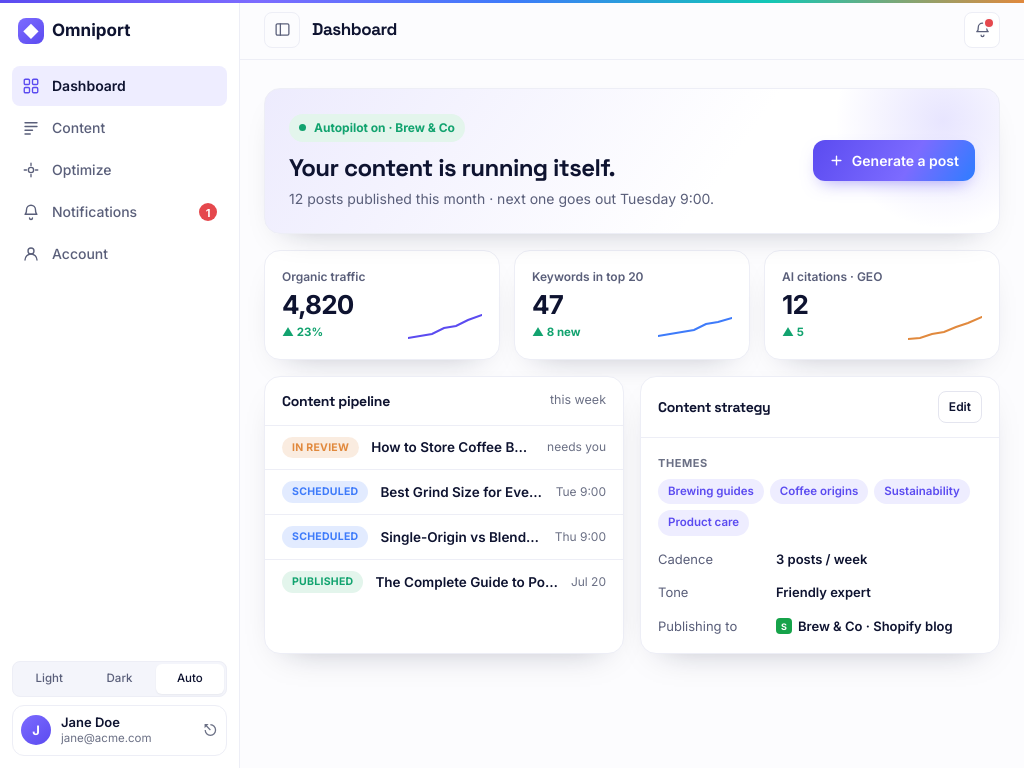
Test: routing › navigates between pages via the sidebar
Check: the text "Dashboard" is shown, box [52,76,126,96]
Click the link "Content" at (64,128), box [22,119,105,137]
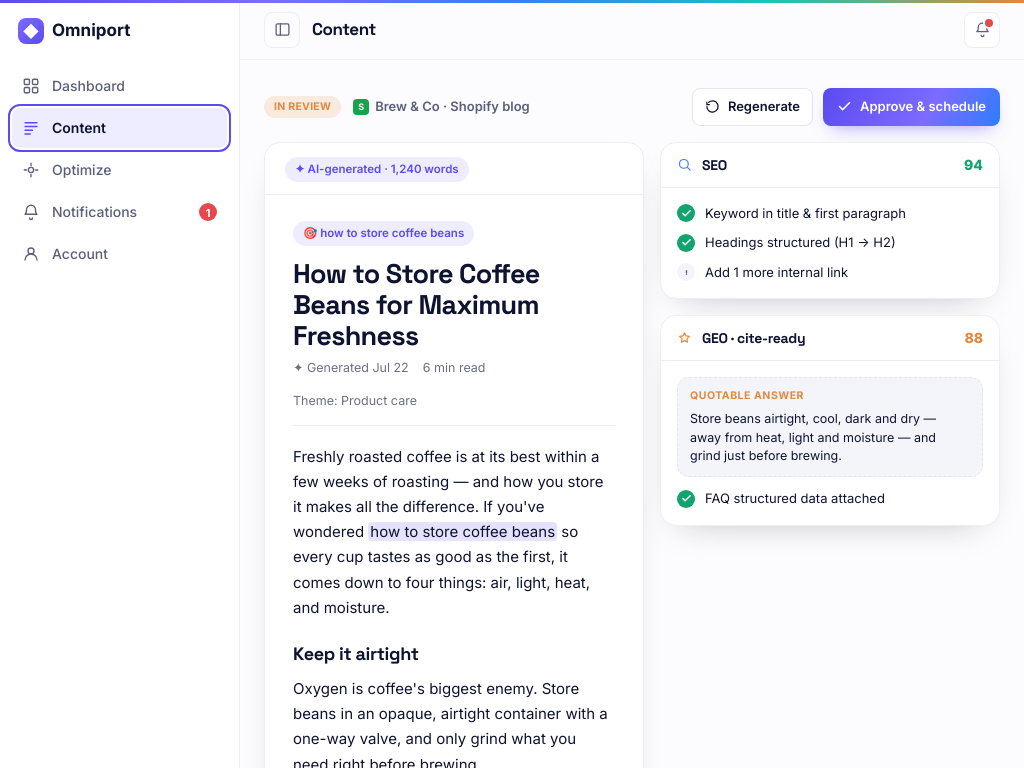
Check: the heading "How to Store Coffee Beans for Maximum Freshness" is shown, box [293,256,540,353]
Click the link "Optimize" at (67,170), box [22,161,112,179]
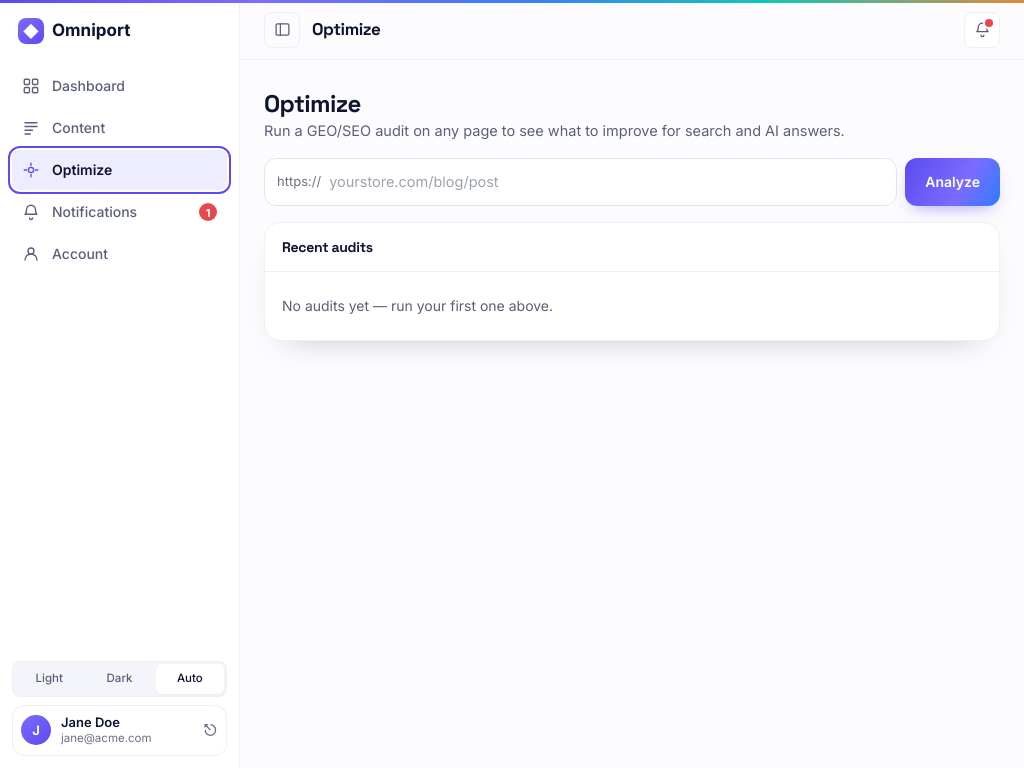
Check: the field named "website url" is shown, box [329,159,884,205]
Click the link "Notifications 1" at (120,212), box [22,203,217,221]
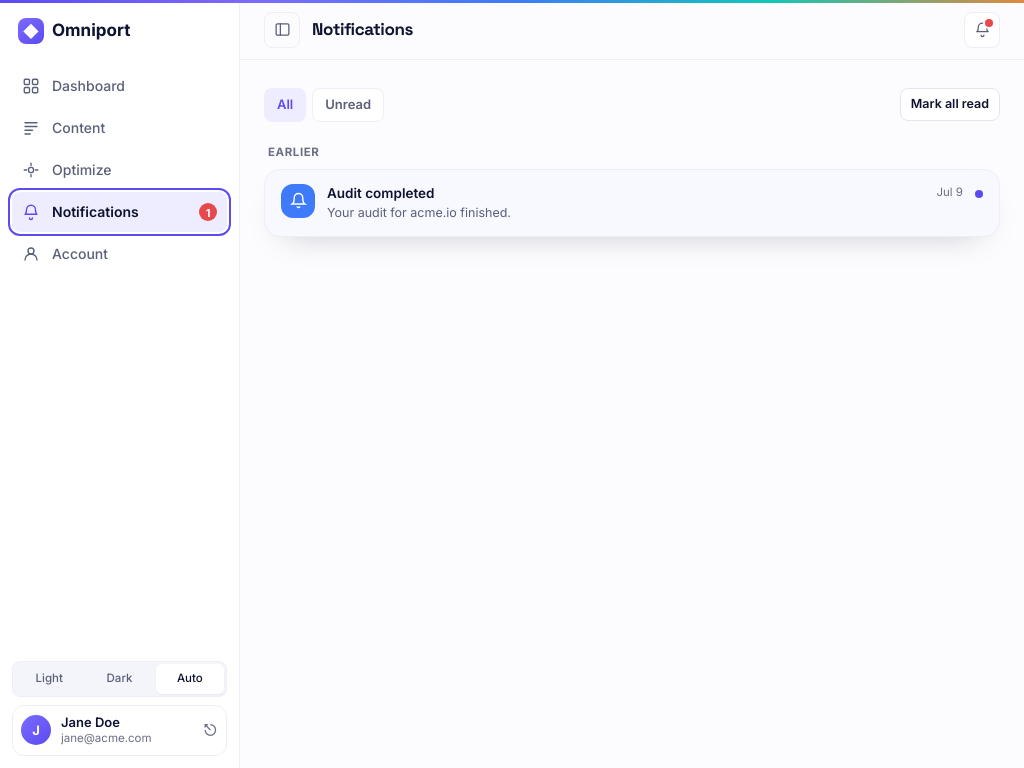
Check: the text "Audit completed" is shown, box [327,185,434,201]
Click the link "Account" at (65,254), box [22,245,108,263]
(page scrolled)
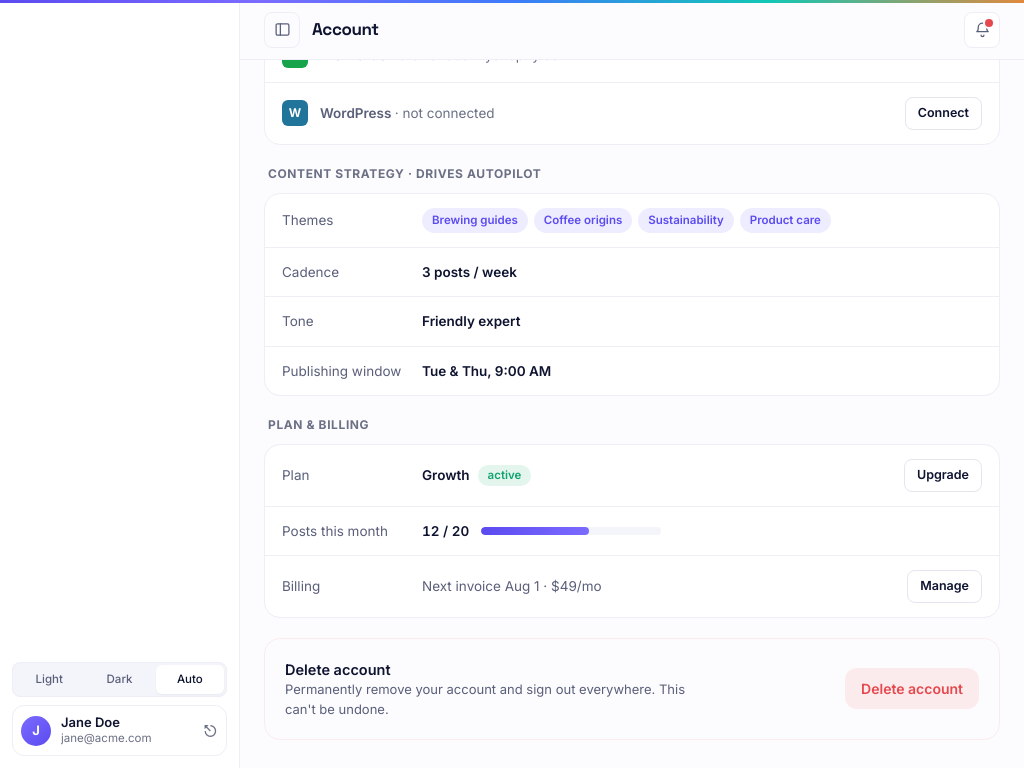
Check: the button "Delete account" is shown, box [845,668,979,709]
